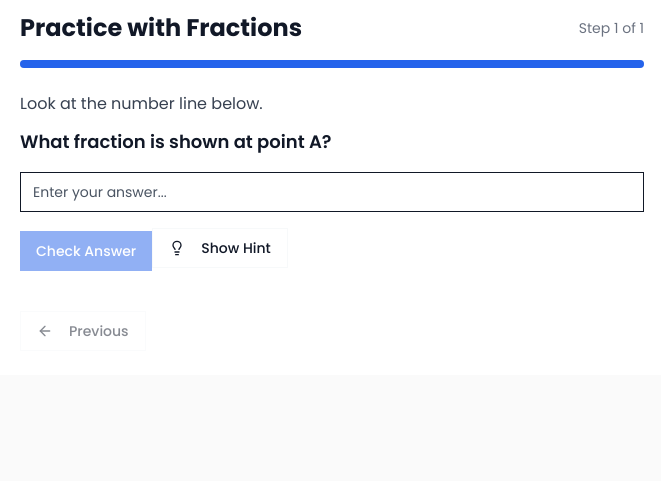
Test case: GuidedPractice › shows hint when hint button is clicked
Click the button with test id "show-hint-button" at (220, 248), box [152,228,288,268]
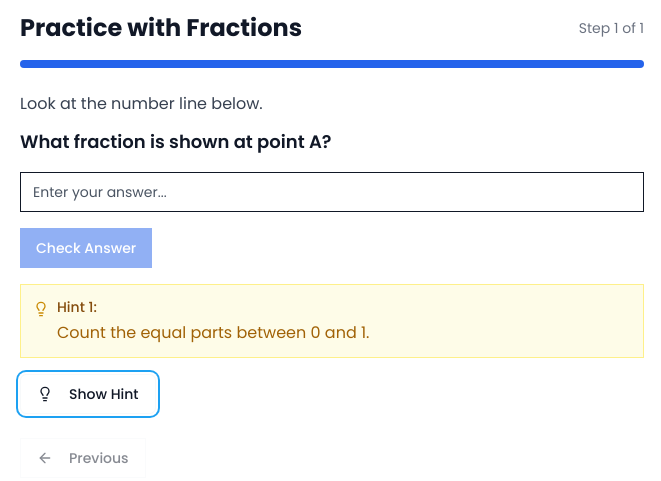
Expected: the text with test id "current-hint" reads "Count the equal parts between 0 and 1.", [57,321,370,344]
